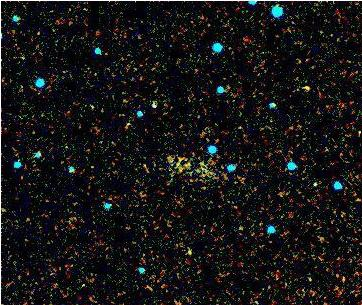star: (191, 172, 221, 202)
